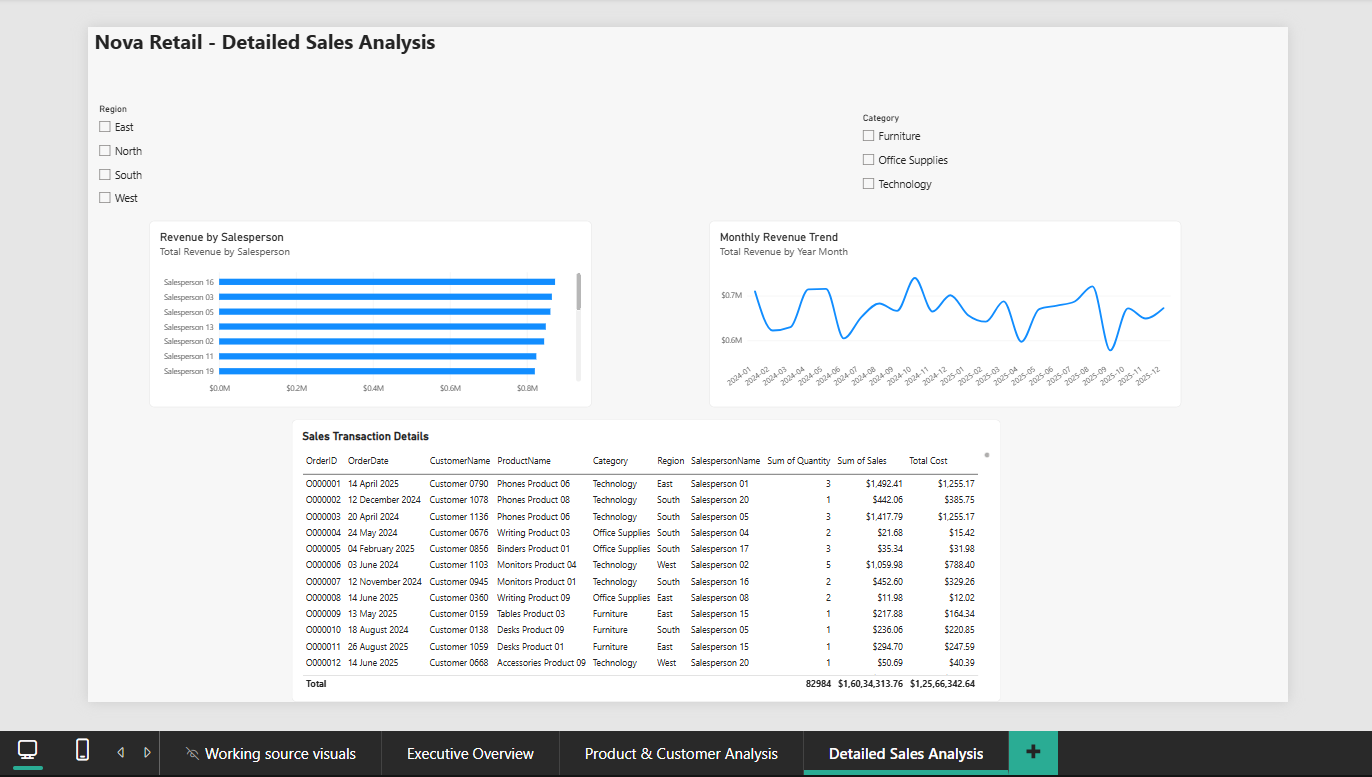

The page's visual inventory and layout, read from the dashboard file:
{"tool":"powerbi","page":{"name":"Detailed Sales Analysis","canvas":[1920,1080],"ordinal":3},"visuals":[{"type":"textbox","box":[10.3,0,695.7,121.4],"z":0},{"type":"clusteredBarChart","title":"Revenue by Salesperson ","fields":{"Y":["Sales_Raw.Total Revenue"],"Category":["Salespersons.SalespersonName"]},"box":[98,310,708.1,298.5],"z":1},{"type":"tableEx","title":"Sales Transaction  Details","fields":{"Values":["Sales_Raw.OrderID","Sales_Raw.OrderDate","Customers.CustomerName","Products.ProductName","Products.Category","Customers.Region","Salespersons.SalespersonName","Sum(Sales_Raw.Quantity)","Sum(Sales_Raw.Sales)","Sales_Raw.Total Cost"]},"box":[326,628,1134,452],"z":2},{"type":"lineChart","title":"Monthly Revenue Trend","fields":{"Y":["Sales_Raw.Total Revenue"],"Category":["Calendar.Year Month"]},"box":[994,310,755.4,298.5],"z":3},{"type":"slicer","fields":{"Values":["Customers.Region"]},"box":[10.3,121.4,596.9,170.8],"z":4},{"type":"slicer","fields":{"Values":["Products.Category"]},"box":[1232.5,135,652.5,156.4],"z":5}]}

Visuals, with their boxes on the page's 1920x1080 design canvas (x1, y1, x2, y2). These are canvas units, not pixel positions in the 1372x777 screenshot, which may show the page scaled, cropped or inside an application window:
textbox: (10,0,706,121)
"Revenue by Salesperson " clusteredBarChart: (98,310,806,608)
"Sales Transaction  Details" tableEx: (326,628,1460,1080)
"Monthly Revenue Trend" lineChart: (994,310,1749,608)
slicer - Customers.Region: (10,121,607,292)
slicer - Products.Category: (1232,135,1885,291)
